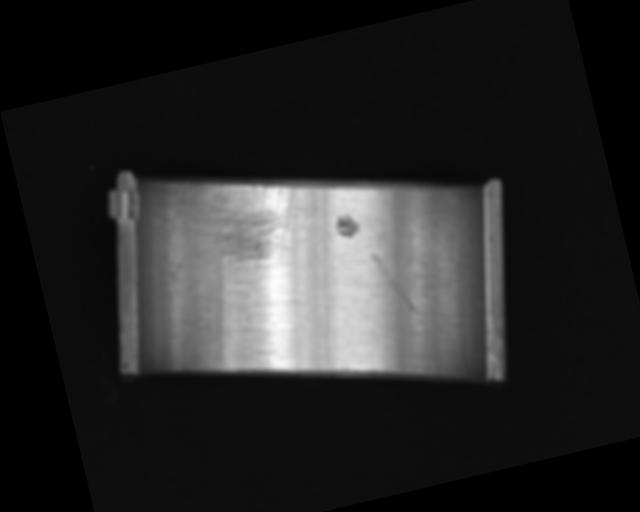bruise: (333, 212, 362, 240)
nick: (305, 246, 354, 372), (370, 245, 420, 322)
scratch: (175, 156, 312, 285)
